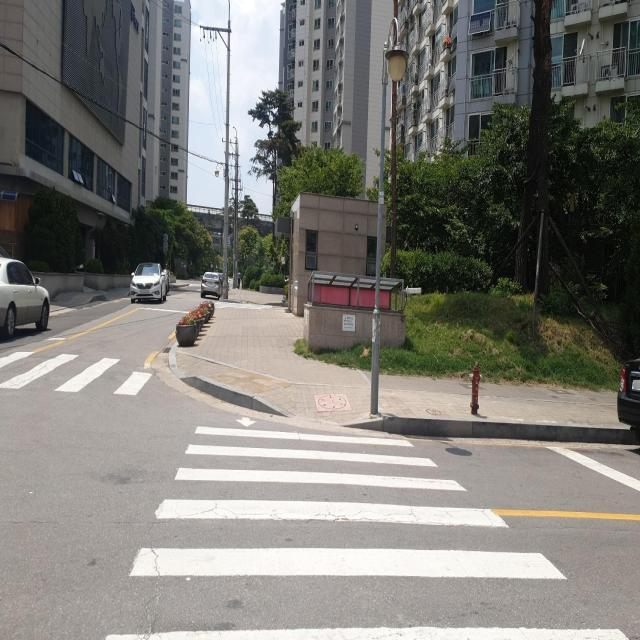횡단보도: (106, 413, 630, 640), (0, 342, 152, 397)
